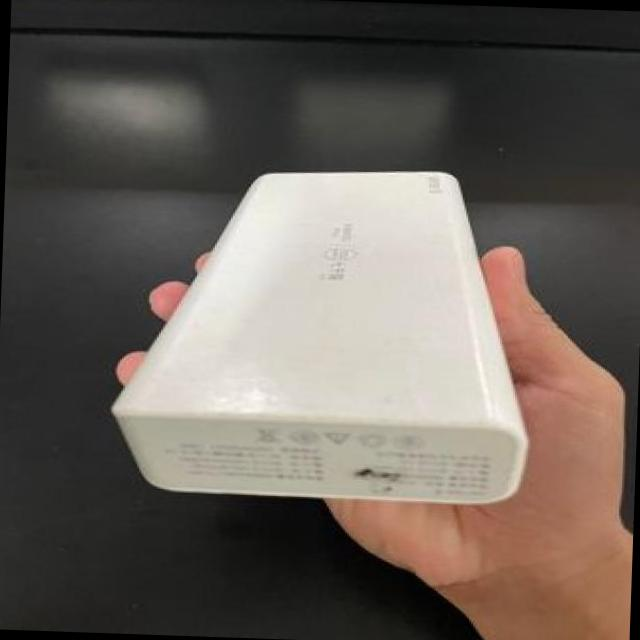portable-charger: (102, 153, 548, 513)
